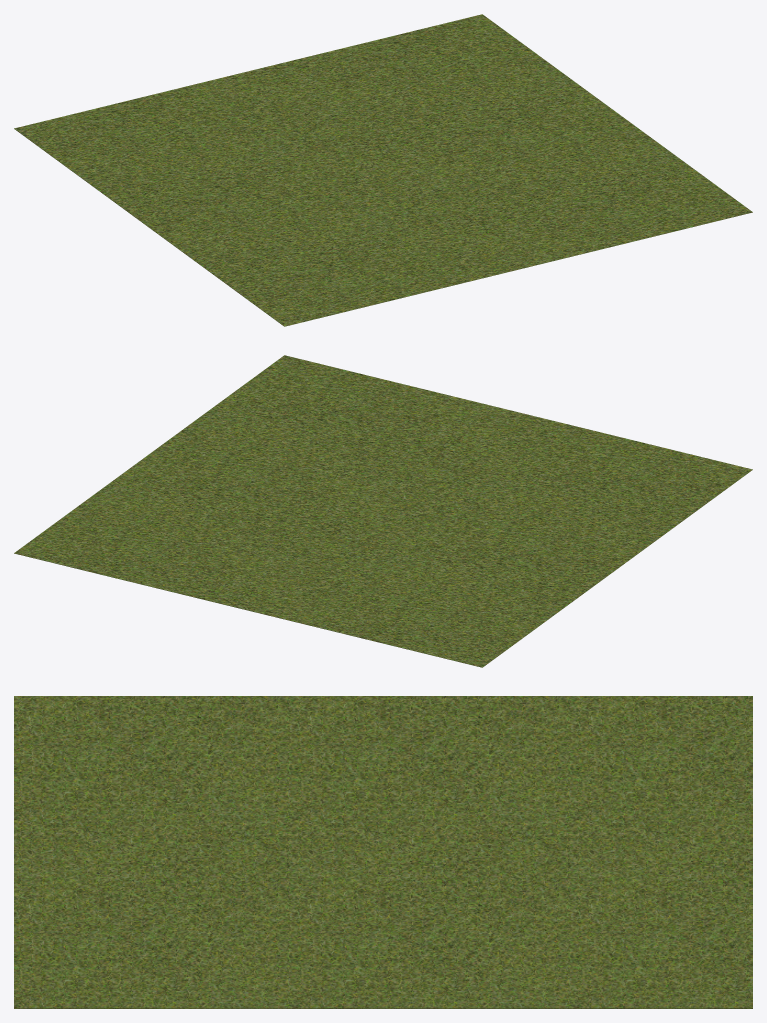
The model's file is grass.obj.
3 renders of one model, top to bottom at view 1: azimuth 30°, elevation 25°; view 2: azimuth 150°, elevation 25°; view 3: azimuth 270°, elevation 25°, orthographic. The views are drawn at different scales.
Visible parts, largest first — view 1: green_grass; view 2: green_grass; view 3: green_grass.
Boxes of the visible parts, x1,y1,x2,y2 form: green_grass: (14, 14, 752, 326); green_grass: (14, 355, 752, 667); green_grass: (14, 696, 752, 1008).
Size of the model in its own units: 66.84 by 0.0415 by 66.84.
1 material, 1 textured.
